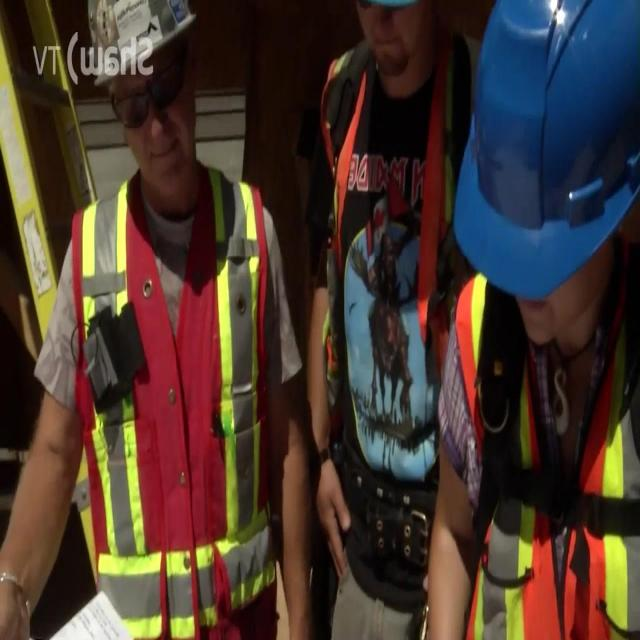Reflective-Jacket: (47, 172, 283, 628), (308, 33, 476, 506), (430, 284, 638, 640)
Safety-Helmet: (447, 3, 640, 297), (83, 0, 205, 100)
